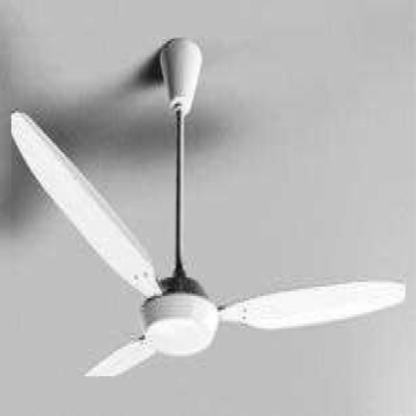ceiling-fan: (12, 37, 406, 377)
